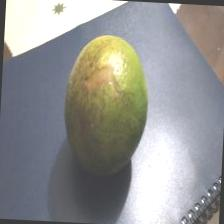Orange Rotten: (55, 19, 156, 194)
